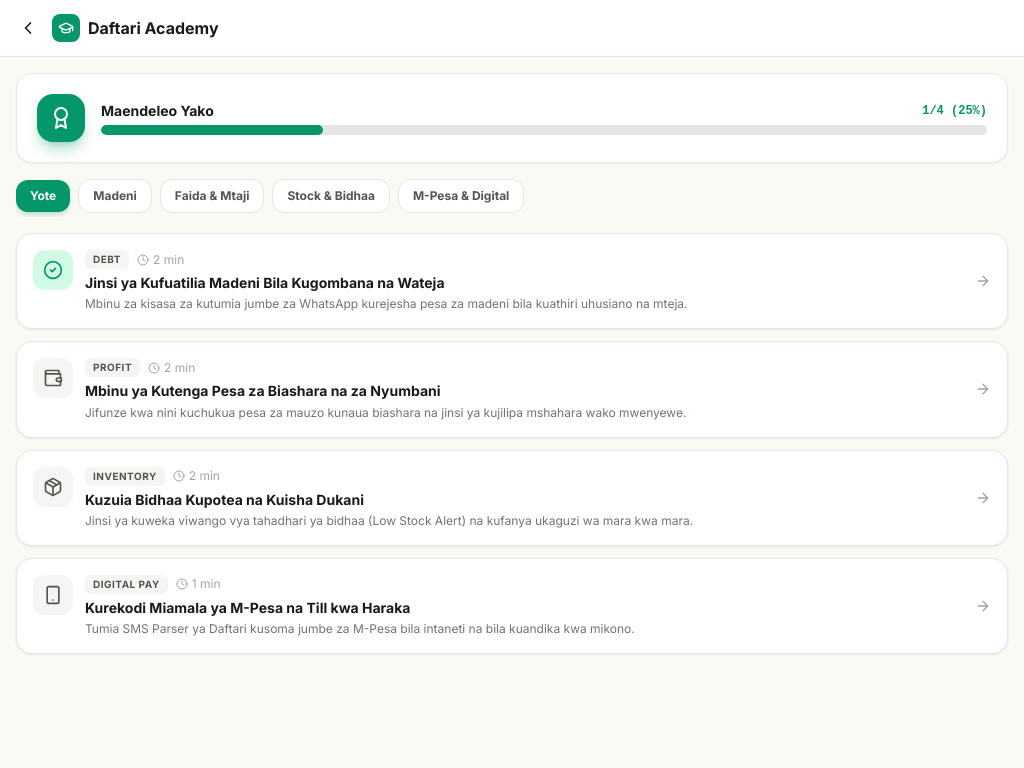
Test: AcademyScreen (Daftari Academy Micro-Learning Engine) › opens lesson modal reader when a lesson card is tapped
Click the heading "Mbinu ya Kutenga Pesa za Biashara na za Nyumbani": coordinates (263, 391) 85,382 -> 441,399
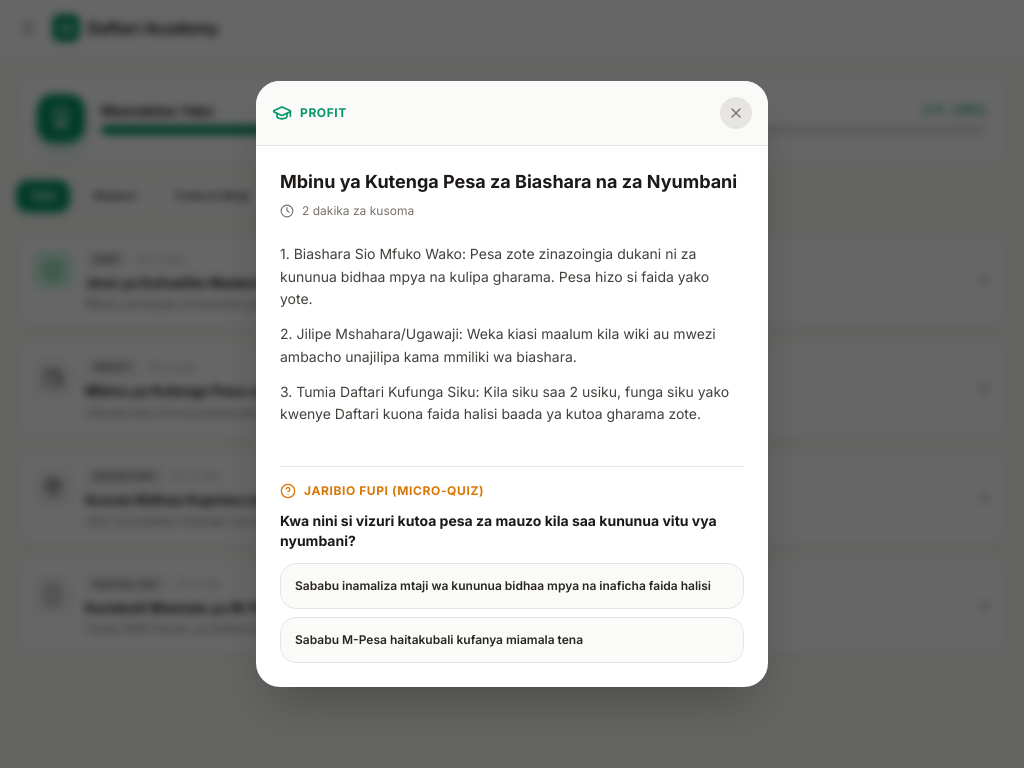
Expected: the text "2 dakika za kusoma" is shown, 302,203 -> 414,219
Expected: the text "Jaribio Fupi (Micro-Quiz)" is shown, 304,483 -> 484,499
Expected: the text "Kwa nini si vizuri kutoa pesa za mauzo kila saa kununua vitu vya nyumbani?" is shown, 280,511 -> 744,551
